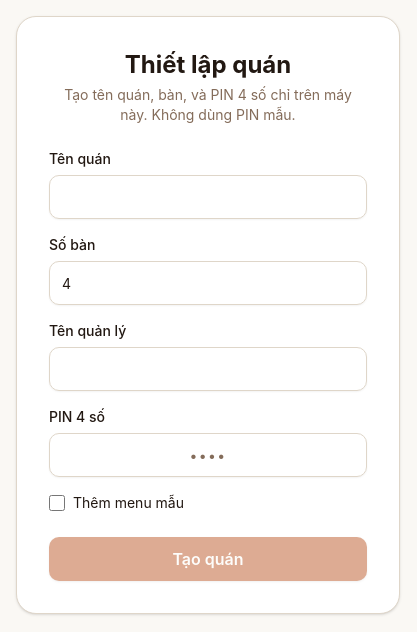
Test: FirstRunWizard › keeps submit disabled until shop, tables, manager, and 4-digit PIN are valid
The width and height of the screenshot is (417, 632).
expect the button "Tạo quán" is disabled: met, box left=49, top=537, right=367, bottom=581
In the field labelled "Tên quán": (208,197) left=49, top=175, right=367, bottom=219, type "Quán Nhà"
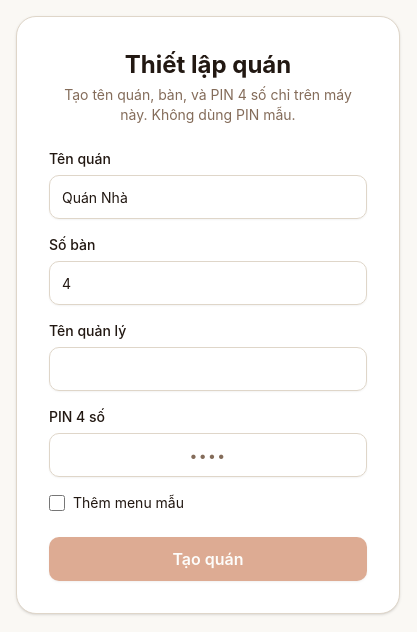
Replace the text in the number field labelled "Số bàn" with "3": (208,283) left=49, top=261, right=367, bottom=305
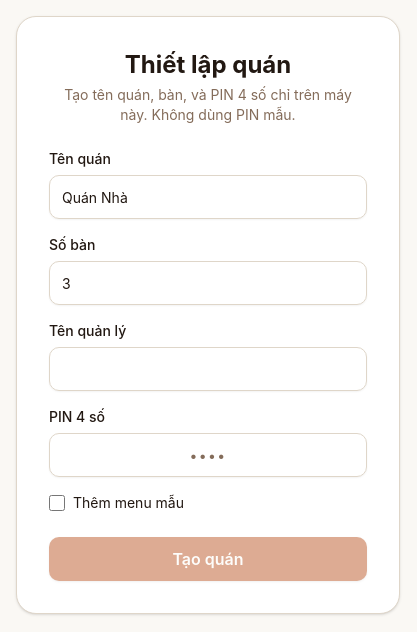
In the field labelled "Tên quản lý": (208,369) left=49, top=347, right=367, bottom=391, type "Chủ quán"
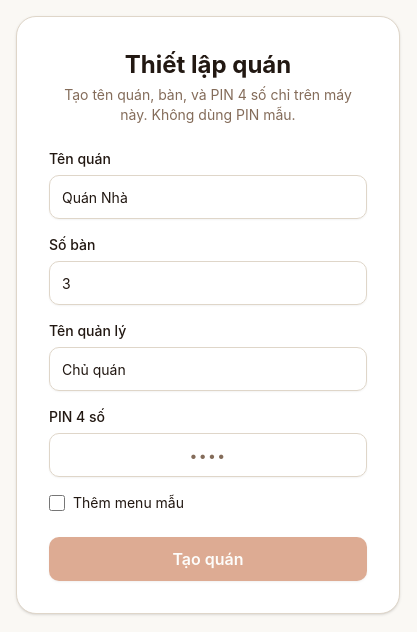
expect the button "Tạo quán" is disabled: met, box left=49, top=537, right=367, bottom=581
In the password field labelled "PIN 4 số": (208,455) left=49, top=433, right=367, bottom=477, type "5821"
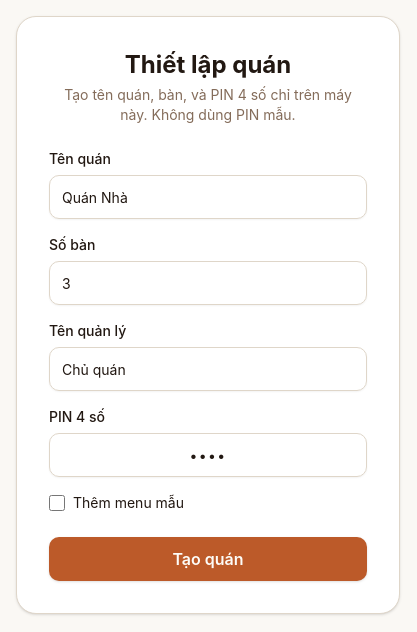
expect the button "Tạo quán" is enabled: met, box left=49, top=537, right=367, bottom=581
